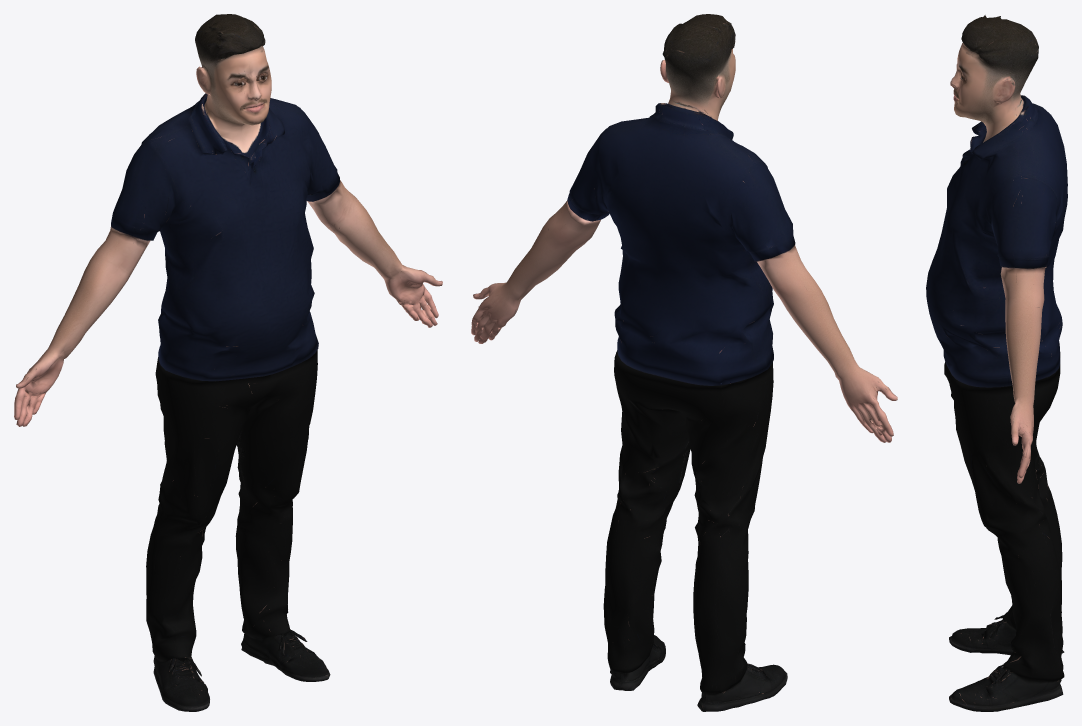
Rendered from Meshy_AI_Open_Stance_Portrait_1016162622_texture.obj.
The picture shows the model from 3 angles, left to right: view 1: azimuth 30°, elevation 25°; view 2: azimuth 150°, elevation 25°; view 3: azimuth 270°, elevation 25°; orthographic projection. The views are drawn at different scales.
Parts seen in each view (by area): view 1: Meshy_AI_Open_Stance_Portrait_1016162622_texture; view 2: Meshy_AI_Open_Stance_Portrait_1016162622_texture; view 3: Meshy_AI_Open_Stance_Portrait_1016162622_texture.
Part boxes in pixels (x1,y1,x2,y2): Meshy_AI_Open_Stance_Portrait_1016162622_texture: (14,14,442,711); Meshy_AI_Open_Stance_Portrait_1016162622_texture: (471,14,897,711); Meshy_AI_Open_Stance_Portrait_1016162622_texture: (926,15,1067,711).
Size of the model in its own units: 0.6338 by 0.9497 by 0.1865.
1 material, 1 textured.
